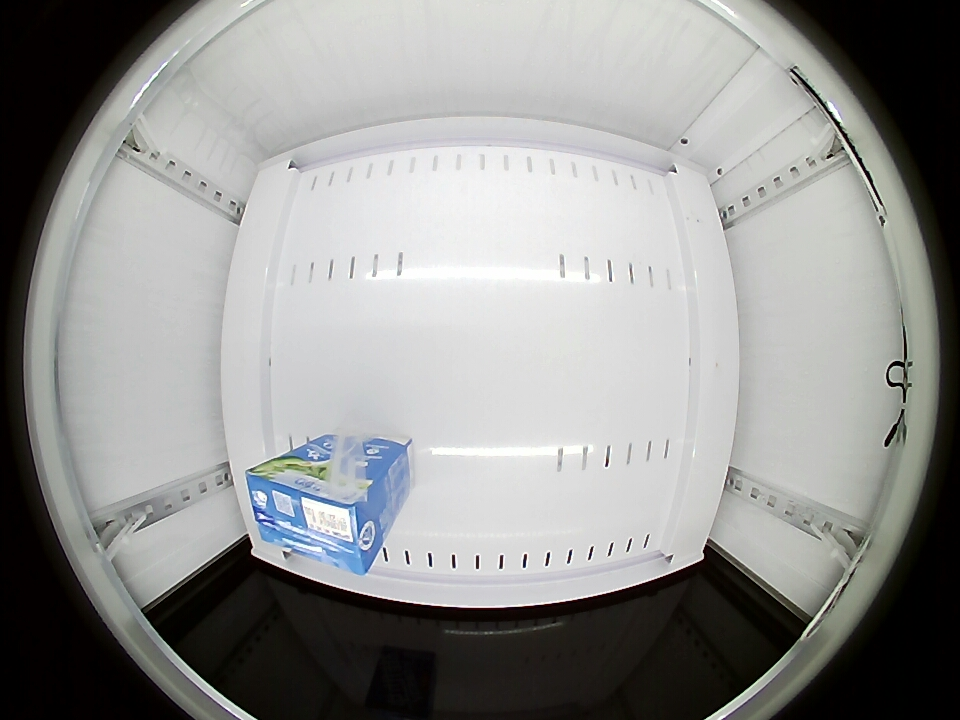weitanai: (244, 459, 387, 575)
